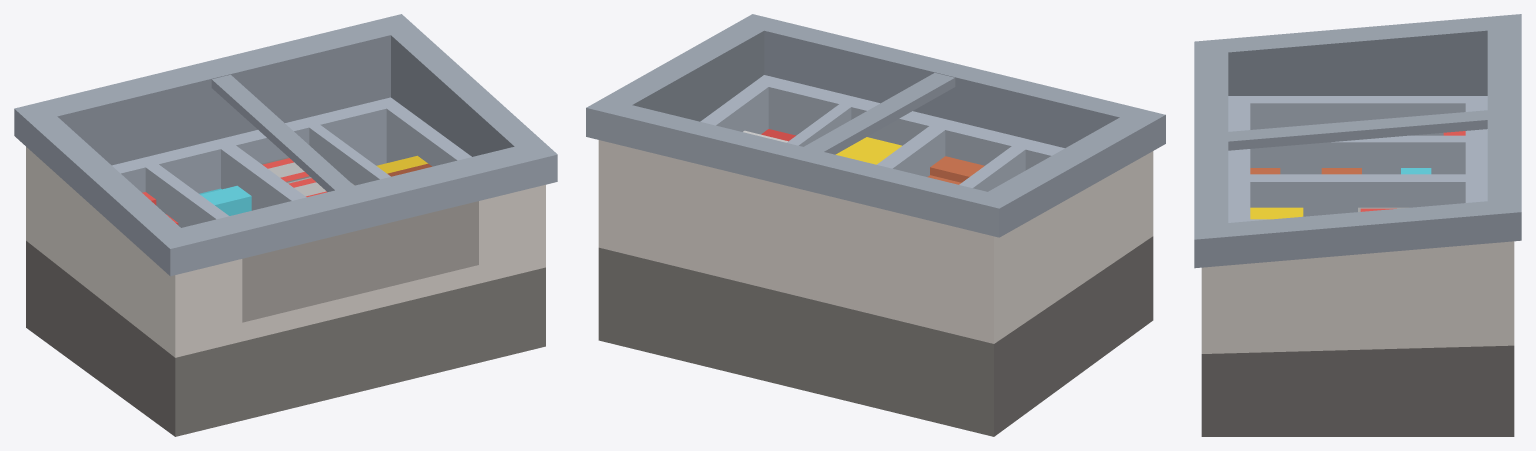
File: Freezer3.glb
3 renders of one model, left to right at view 1: azimuth 30°, elevation 25°; view 2: azimuth 150°, elevation 25°; view 3: azimuth 270°, elevation 25°, orthographic. The views are drawn at different scales.
Visible parts, largest first — view 1: SI_Prop_Freezer_03; view 2: SI_Prop_Freezer_03; view 3: SI_Prop_Freezer_03.
Boxes of the visible parts, x1,y1,x2,y2 form: SI_Prop_Freezer_03: (14, 14, 557, 436); SI_Prop_Freezer_03: (586, 14, 1165, 436); SI_Prop_Freezer_03: (1194, 14, 1521, 436).
Size of the model in its own units: 0.0303 by 0.0163 by 0.0211.
Materials: 1 (1 with a texture image).
